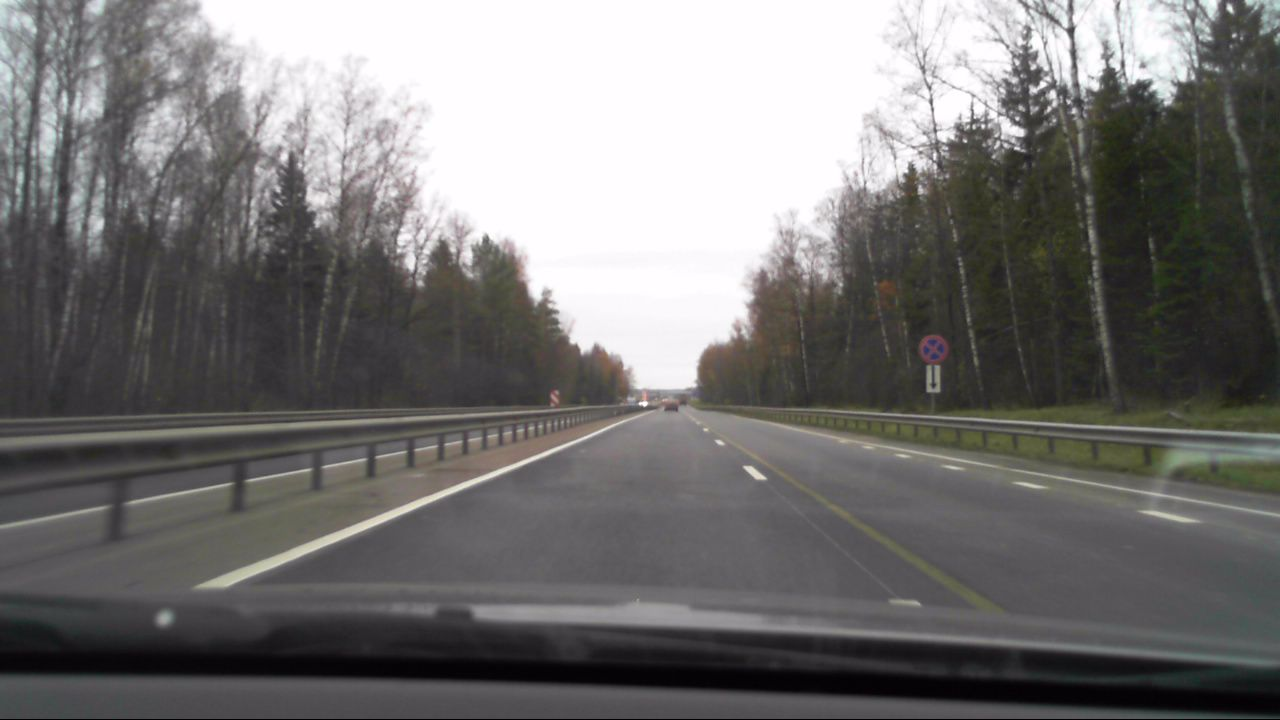No Parking: (918, 335, 949, 365)
